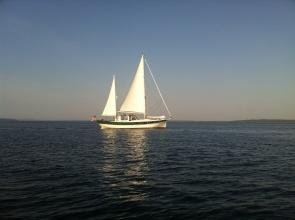fanchuan: (94, 54, 176, 131)
